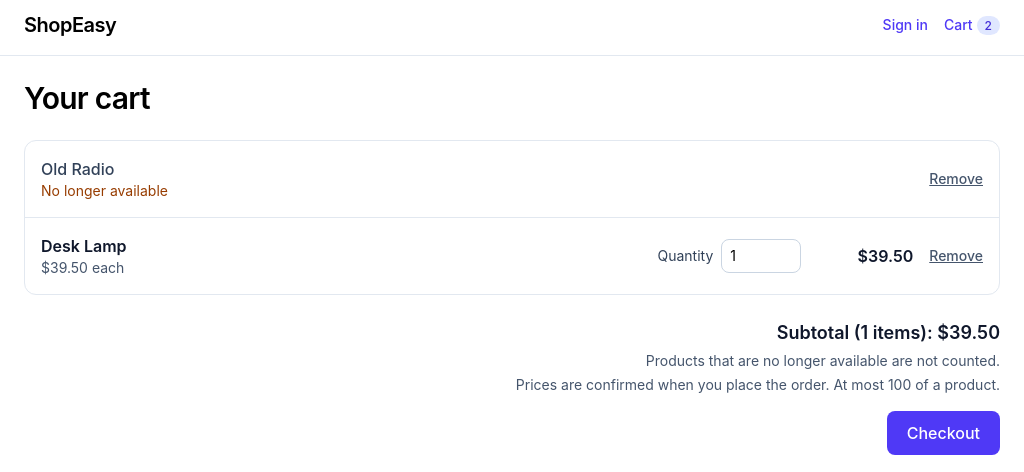
CartPage › keeps a product that is no longer sold out of the total, and lets it be removed
Expected: the text "Old Radio" is shown, left=41, top=159, right=114, bottom=179
Expected: the text "No longer available" is shown, left=41, top=181, right=168, bottom=201
Click the button with aria-label "Remove Old Radio" at (956, 179), box left=929, top=169, right=983, bottom=189
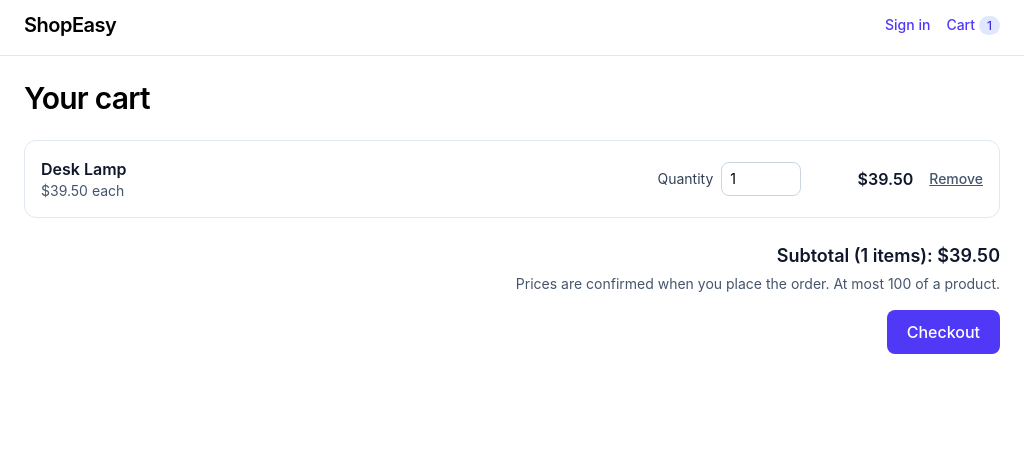
Result: the text "Old Radio" is gone
